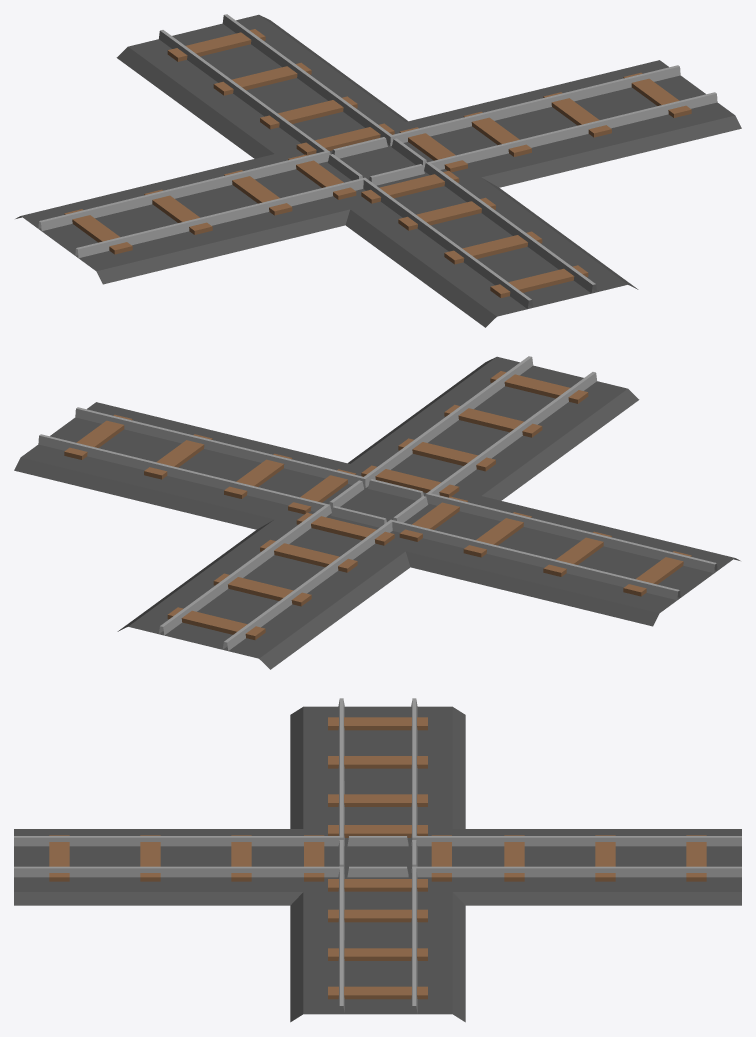
File: 1_crossing.fbx
3 views of the same model, one above another, from view 1: azimuth 30°, elevation 25°; view 2: azimuth 150°, elevation 25°; view 3: azimuth 270°, elevation 25° (orthographic).
Parts seen in each view (by area): view 1: 1_crossing; view 2: 1_crossing; view 3: 1_crossing.
Boxes of the visible parts, x1,y1,x2,y2 form: 1_crossing: [15, 14, 741, 327]; 1_crossing: [14, 356, 740, 669]; 1_crossing: [14, 698, 741, 1022].
Size of the model in its own units: 8 by 0.2 by 8.
